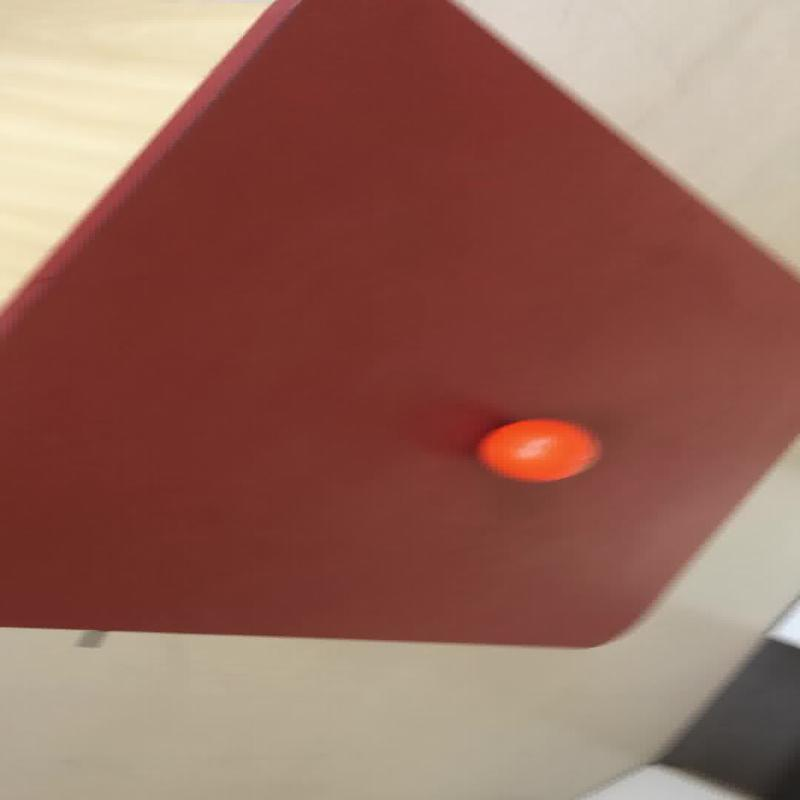orange: (2, 0, 798, 650), (475, 417, 601, 483)
